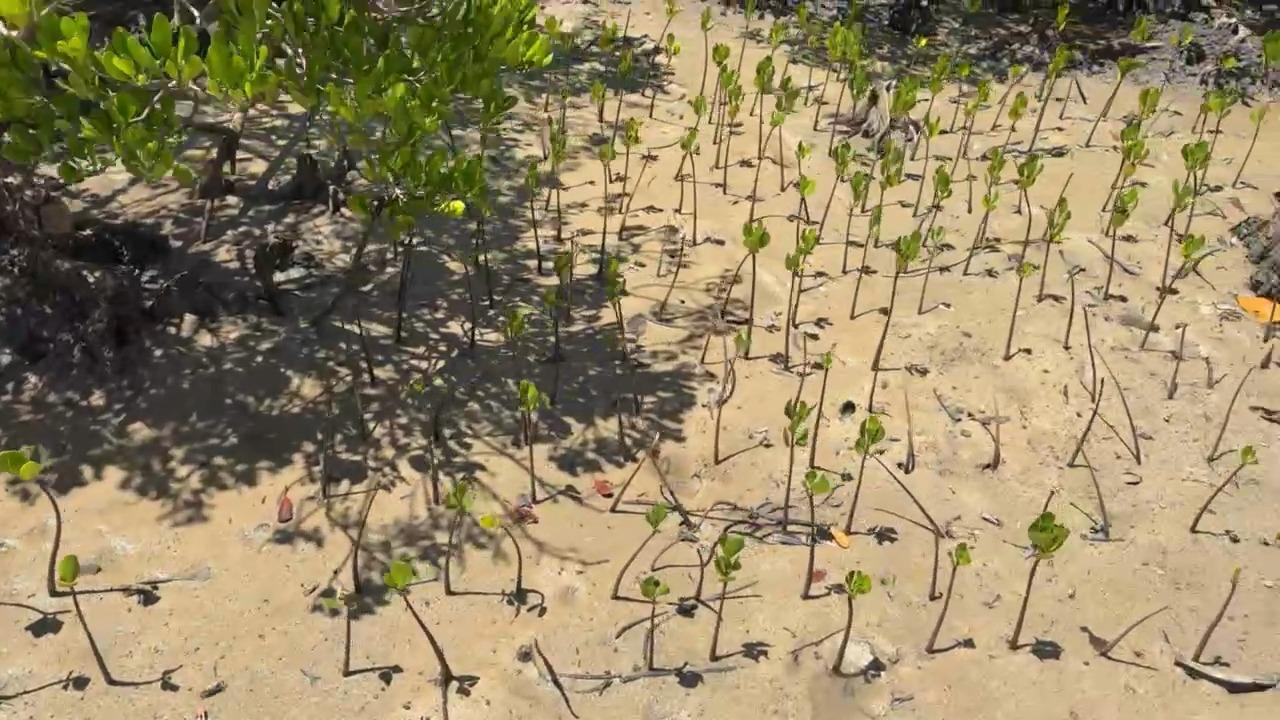Tree: (1, 451, 60, 596), (1011, 510, 1071, 649), (382, 559, 452, 677), (1141, 234, 1205, 349), (56, 554, 112, 683), (999, 2, 1071, 102), (871, 232, 922, 369), (1101, 12, 1162, 121), (870, 452, 945, 539), (1190, 445, 1259, 534), (1094, 347, 1142, 465), (1084, 56, 1145, 147), (612, 504, 667, 600), (713, 329, 752, 464), (926, 542, 972, 653), (845, 414, 887, 533), (710, 534, 749, 662), (782, 398, 817, 533), (827, 33, 866, 154), (719, 228, 771, 318), (1163, 137, 1212, 227), (1195, 568, 1242, 661), (811, 19, 851, 128), (1209, 367, 1255, 460), (1106, 142, 1151, 237), (1102, 188, 1140, 300), (1195, 87, 1235, 193), (830, 570, 871, 673), (742, 219, 772, 358), (1030, 44, 1069, 150), (912, 57, 951, 161), (800, 470, 831, 600), (817, 142, 858, 240), (642, 0, 684, 95), (750, 112, 786, 222), (610, 434, 660, 512), (1102, 122, 1145, 212), (1161, 178, 1194, 293), (618, 148, 660, 238), (749, 22, 789, 116), (1151, 26, 1193, 114), (851, 204, 883, 319), (1066, 378, 1107, 467), (444, 481, 476, 595), (1099, 605, 1169, 657), (478, 514, 523, 591), (1190, 58, 1236, 133), (873, 147, 906, 248), (1232, 102, 1271, 187), (1015, 152, 1044, 266), (1004, 261, 1036, 361), (962, 192, 1000, 275), (912, 115, 942, 219), (353, 488, 382, 592), (775, 75, 801, 189), (1079, 444, 1110, 538), (639, 574, 669, 670), (649, 30, 681, 119), (809, 350, 833, 467), (842, 172, 870, 271), (675, 95, 708, 177), (916, 225, 946, 314), (792, 227, 819, 325), (980, 146, 1007, 244), (518, 378, 539, 503), (781, 6, 816, 81), (597, 144, 617, 275), (837, 0, 869, 79), (657, 234, 688, 315), (680, 127, 702, 241), (617, 116, 643, 212), (922, 164, 953, 244), (715, 69, 740, 168), (723, 83, 745, 195), (963, 82, 996, 155), (324, 595, 353, 678), (590, 79, 613, 182), (1113, 118, 1147, 187), (992, 66, 1027, 133), (607, 258, 629, 362), (860, 138, 890, 214), (755, 53, 776, 158), (612, 51, 635, 145), (784, 252, 802, 369), (889, 77, 917, 152), (545, 289, 563, 405), (457, 249, 478, 347), (1001, 91, 1031, 159), (526, 162, 544, 273), (1062, 264, 1085, 348), (707, 42, 731, 122), (948, 103, 972, 178), (543, 117, 562, 211), (711, 64, 733, 144), (504, 305, 529, 375), (549, 131, 565, 238), (795, 139, 815, 223), (804, 21, 824, 105), (1167, 322, 1188, 400), (950, 59, 973, 129), (794, 177, 816, 250), (698, 6, 716, 95), (738, 0, 758, 71), (1083, 307, 1097, 402), (356, 313, 375, 381), (1197, 89, 1221, 142), (554, 254, 576, 310), (395, 254, 409, 341), (483, 222, 497, 306), (904, 34, 930, 79), (601, 20, 619, 82), (849, 65, 870, 118), (426, 435, 440, 505), (794, 334, 807, 409), (1058, 78, 1076, 119), (720, 358, 736, 403), (868, 360, 881, 413), (962, 144, 972, 212), (930, 535, 940, 602), (992, 395, 1001, 468), (441, 660, 451, 720), (560, 86, 575, 126), (701, 332, 715, 363), (697, 549, 705, 603), (544, 70, 553, 112), (678, 169, 686, 214), (906, 428, 913, 474), (624, 7, 632, 44), (1016, 185, 1025, 213)
